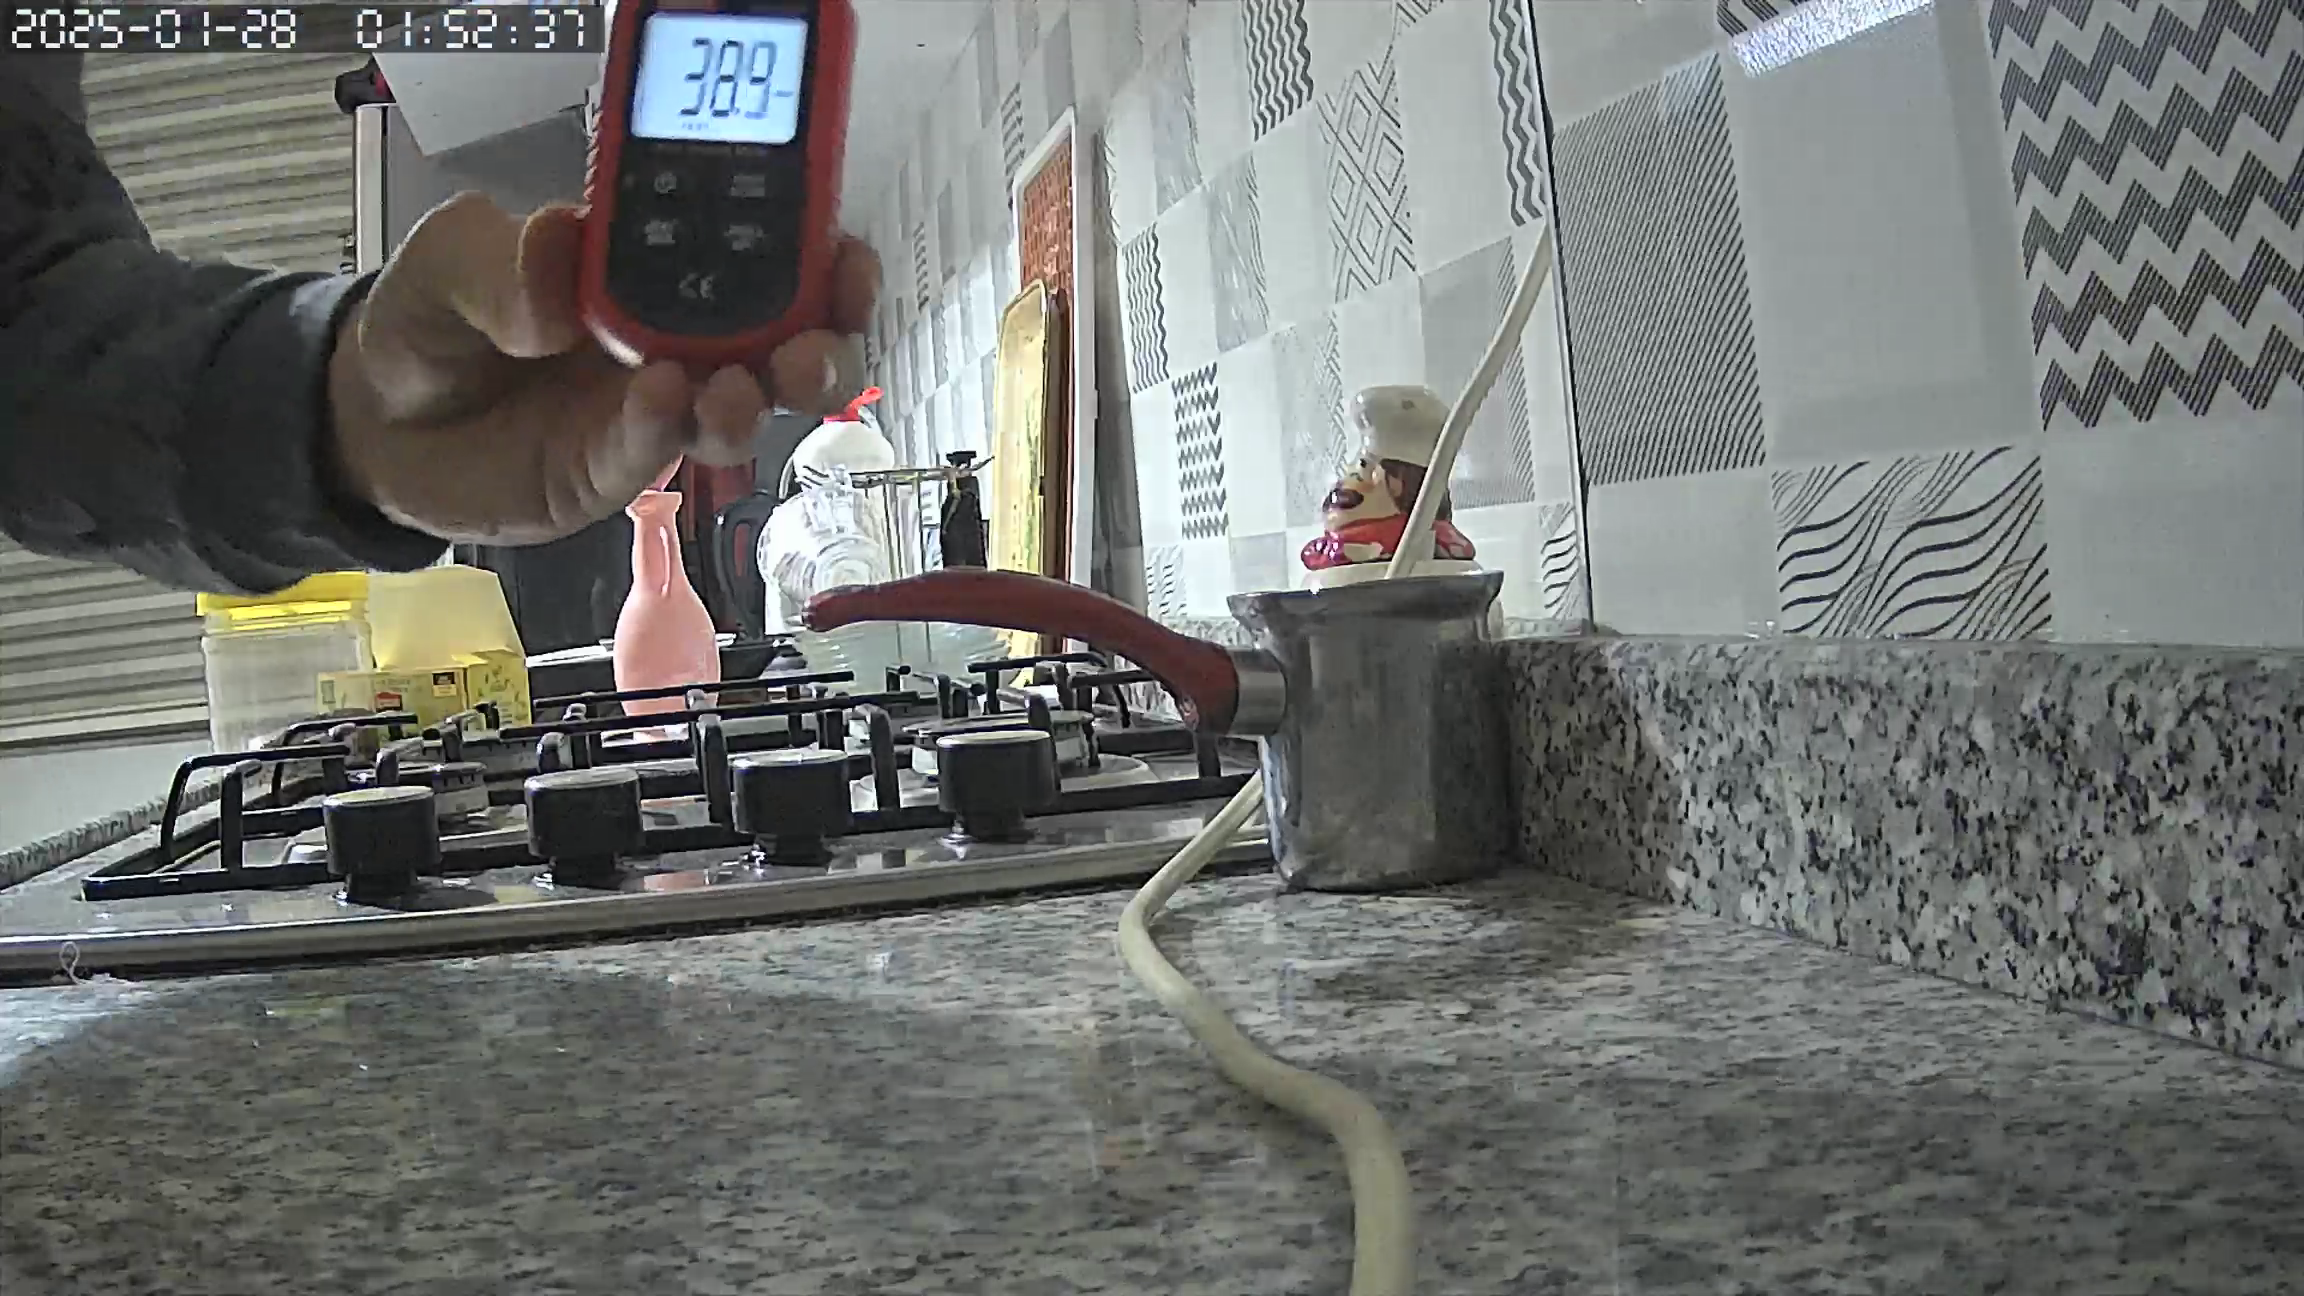screen: (628, 14, 809, 146)
